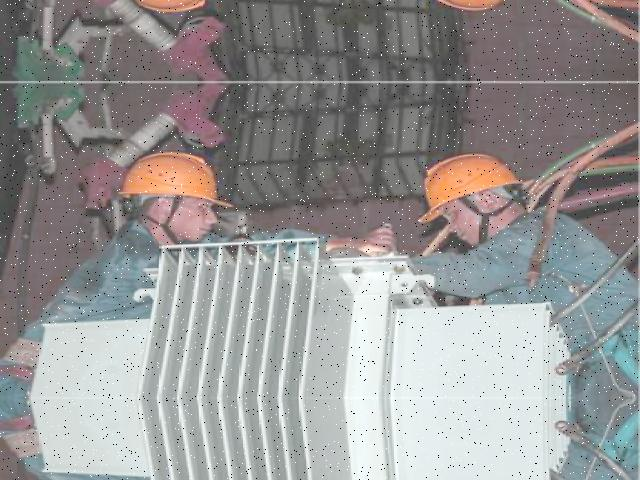Helmet: (416, 150, 534, 229), (121, 149, 237, 214)
